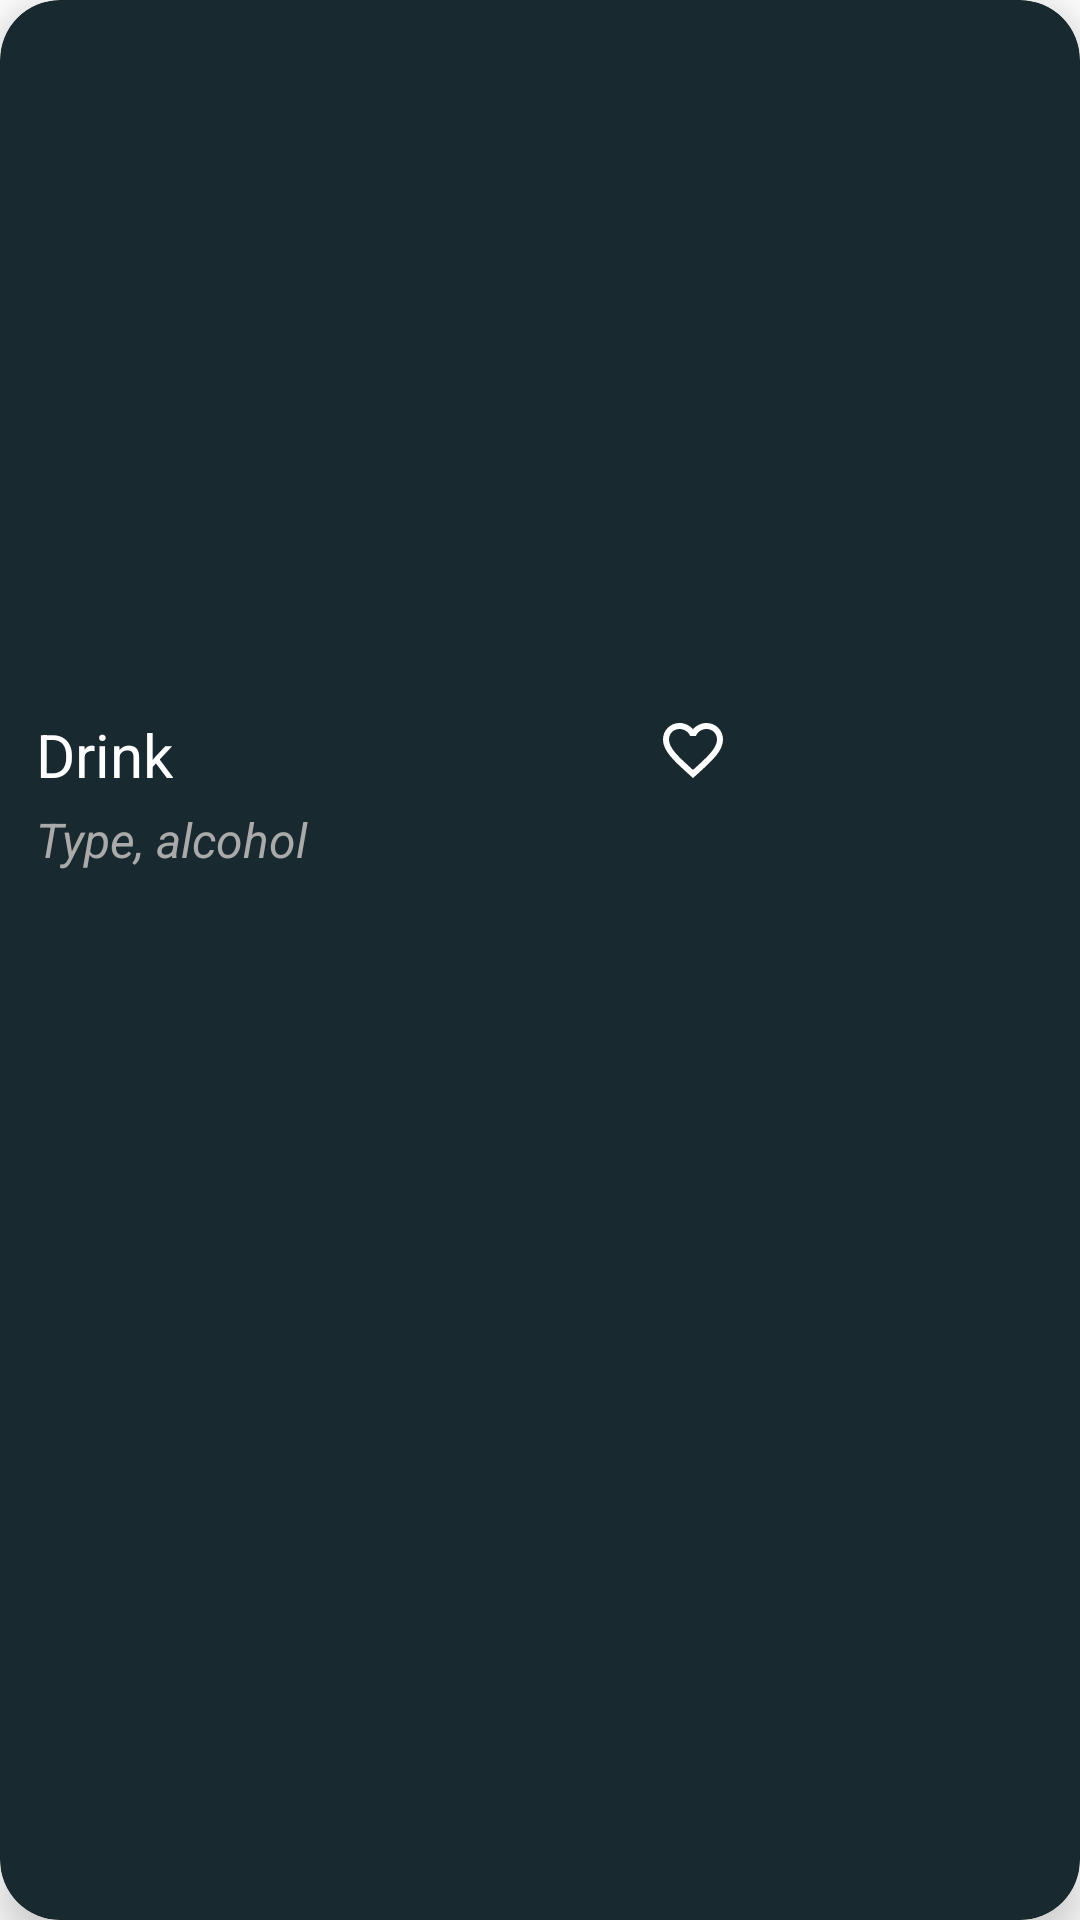

Where to tap for icons on this 1080w x 1920h app screen, as (x=x, y=y):
favorite border: (x=693, y=750)
